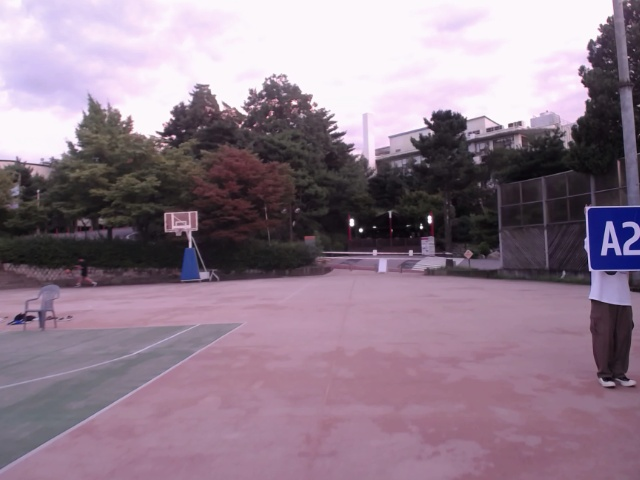delivery_a2: (584, 204, 639, 270)
